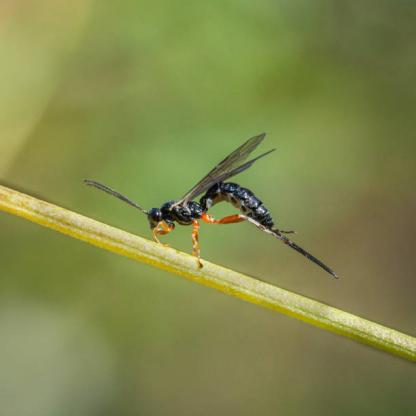sawfly: (92, 124, 342, 280)
